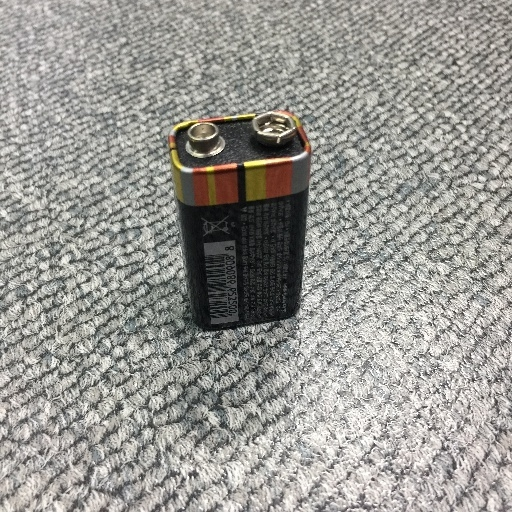Battery_3: (159, 104, 330, 350)
